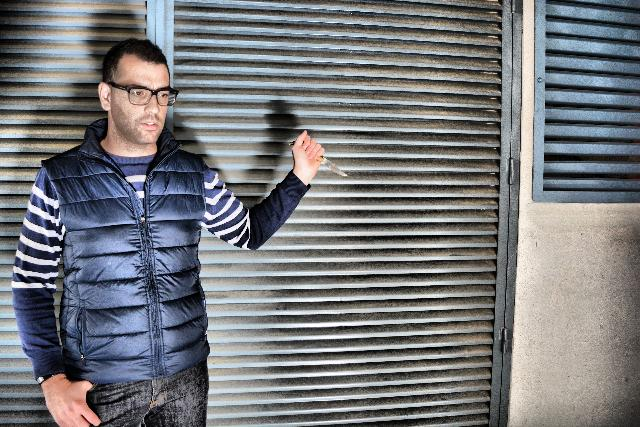knife: (286, 139, 350, 179)
